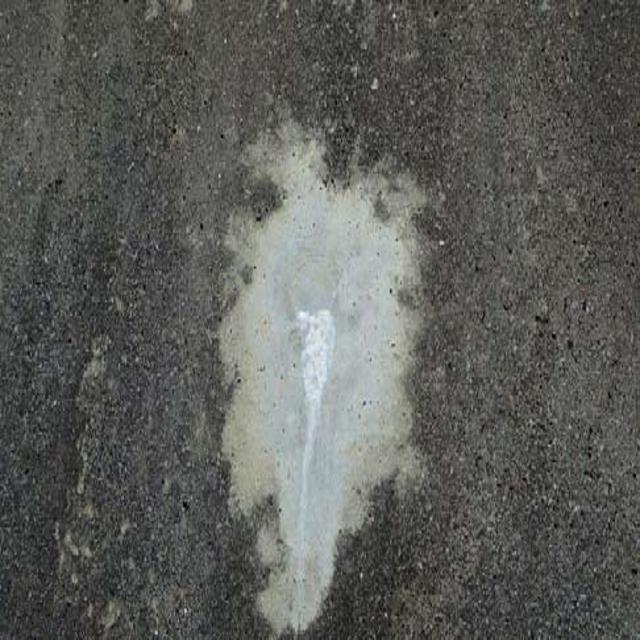freelime: (292, 296, 337, 457)
